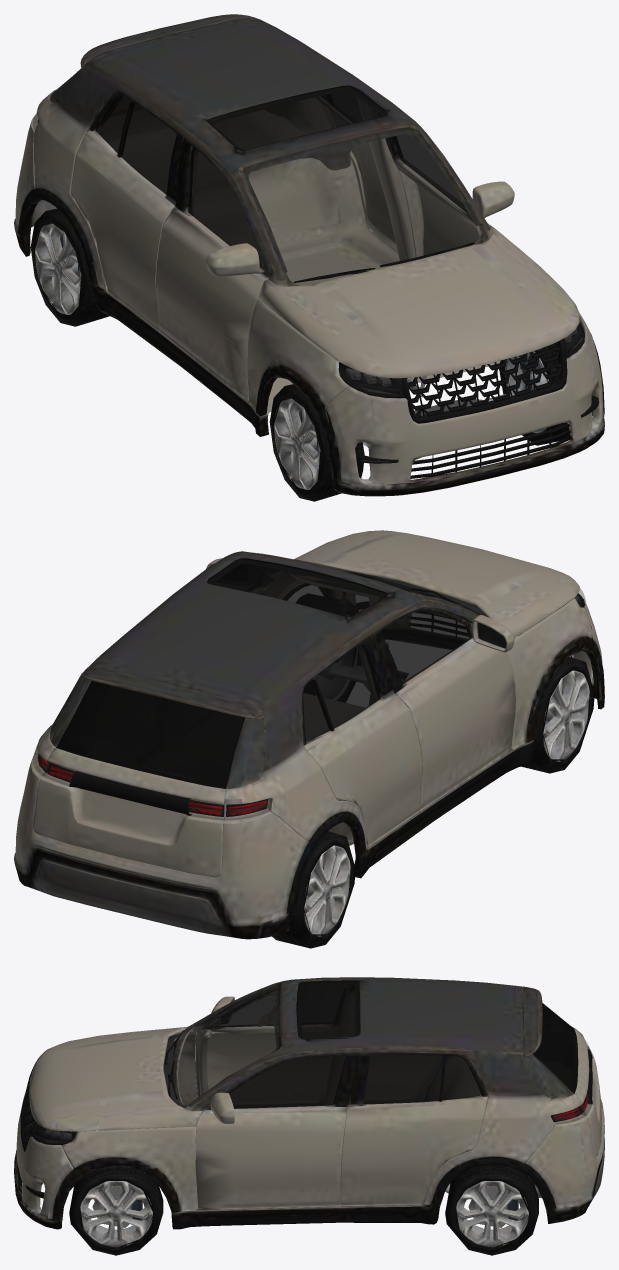
Rendered from mmc_generic_small_suv.glb.
The picture shows the model from 3 angles, top to bottom: view 1: azimuth 30°, elevation 25°; view 2: azimuth 150°, elevation 25°; view 3: azimuth 270°, elevation 25°; orthographic projection. The views are drawn at different scales.
Parts seen in each view (by area): view 1: chassis-sunroof, hood, glass-windshield, bumper-front, door-front-right, door-rear-right, glass-sunroof, fender-front-right, door-front-left, front-grille, glass-door-front-right, glass-door-rear-right (+20 smaller); view 2: chassis-sunroof, bumper-rear, trunk, door-front-right, hood, glass-rear, door-rear-right, glass-sunroof, fender-front-right, glass-door-front-right, glass-door-rear-right, wheel-fr (+19 smaller); view 3: chassis-sunroof, door-front-left, door-rear-left, hood, door-front-right, glass-windshield, fender-front-left, bumper-rear, glass-door-front-left, glass-door-rear-left, glass-sunroof, bumper-front (+22 smaller).
Part boxes in pixels (x1,y1,x2,y2): chassis-sunroof: [33, 18, 500, 436]; hood: [257, 225, 579, 378]; glass-windshield: [243, 127, 487, 285]; bumper-front: [325, 329, 604, 496]; door-front-right: [156, 137, 268, 401]; door-rear-right: [71, 92, 183, 330]; glass-sunroof: [207, 85, 387, 150]; fender-front-right: [247, 298, 349, 410]; door-front-left: [378, 113, 490, 257]; front-grille: [407, 345, 561, 418]; glass-door-front-right: [188, 146, 260, 261]; glass-door-rear-right: [121, 102, 176, 194]; chassis-sunroof: [34, 551, 534, 878]; bumper-rear: [14, 754, 308, 939]; trunk: [33, 748, 225, 877]; door-front-right: [371, 608, 515, 811]; hood: [273, 530, 579, 637]; glass-rear: [56, 680, 245, 788]; door-rear-right: [302, 635, 422, 847]; glass-sunroof: [207, 558, 387, 617]; fender-front-right: [508, 597, 592, 750]; glass-door-front-right: [380, 611, 471, 683]; glass-door-rear-right: [315, 643, 380, 728]; wheel-fr: [543, 670, 590, 761]; chassis-sunroof: [170, 977, 582, 1229]; door-front-left: [195, 1053, 358, 1210]; door-rear-left: [340, 1053, 487, 1206]; hood: [29, 1026, 201, 1131]; door-front-right: [195, 987, 346, 1107]; glass-windshield: [170, 983, 280, 1107]; fender-front-left: [61, 1126, 198, 1211]; bumper-rear: [525, 1046, 604, 1223]; glass-door-front-left: [229, 1055, 345, 1108]; glass-door-rear-left: [363, 1054, 443, 1104]; glass-sunroof: [296, 980, 359, 1039]; bumper-front: [14, 1091, 73, 1229].
Bounding box in the file's own units: 1.95 × 1.56 × 4.19.
14 materials, 4 textured.
